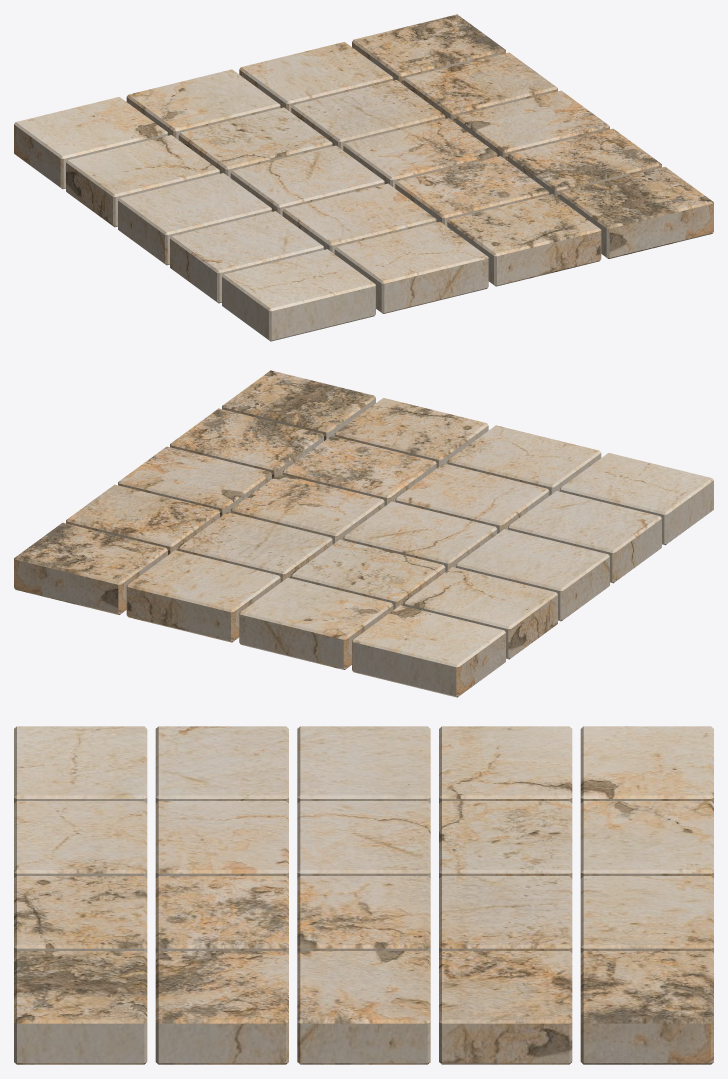
The model's file is paving_patch_1m.glb.
3 views of the same model, one above another, from view 1: azimuth 30°, elevation 25°; view 2: azimuth 150°, elevation 25°; view 3: azimuth 270°, elevation 25° (orthographic). The views are drawn at different scales.
Parts seen in each view (by area): view 1: paving_patch_1m__VVK_concrete_CC0; view 2: paving_patch_1m__VVK_concrete_CC0; view 3: paving_patch_1m__VVK_concrete_CC0.
Boxes of the visible parts, x1,y1,x2,y2 form: paving_patch_1m__VVK_concrete_CC0: [14, 14, 713, 341]; paving_patch_1m__VVK_concrete_CC0: [14, 370, 713, 697]; paving_patch_1m__VVK_concrete_CC0: [14, 726, 713, 1064].
Bounding box in the file's own units: 0.988 × 0.07 × 0.988.
Materials: 1 (1 with a texture image).
